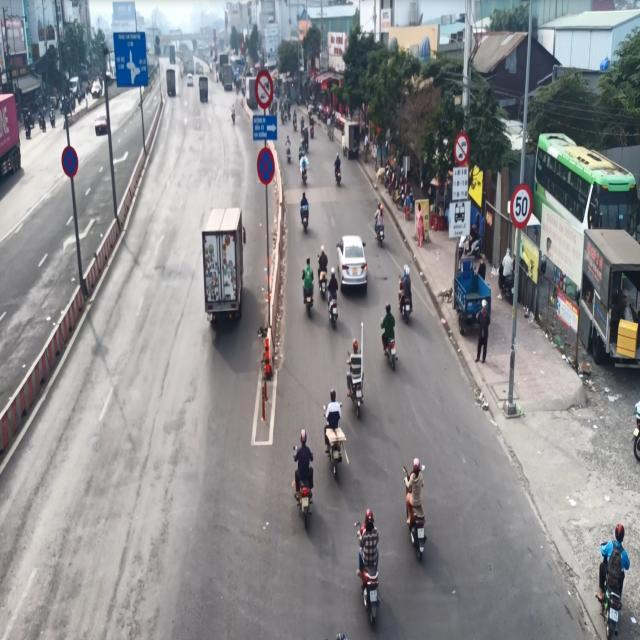car: (330, 235, 378, 296)
motorcycle: (355, 560, 391, 630), (402, 502, 434, 566), (319, 424, 347, 482), (373, 329, 405, 372), (292, 479, 318, 526), (345, 373, 367, 421), (394, 288, 417, 324), (299, 287, 316, 321), (327, 299, 343, 333)
person: (355, 508, 386, 572), (606, 520, 631, 590), (404, 453, 428, 509), (294, 429, 316, 478), (323, 389, 347, 427), (378, 304, 402, 341), (346, 337, 366, 380), (302, 258, 317, 296), (315, 241, 329, 275), (299, 190, 312, 213)
truck: (200, 206, 246, 323)
